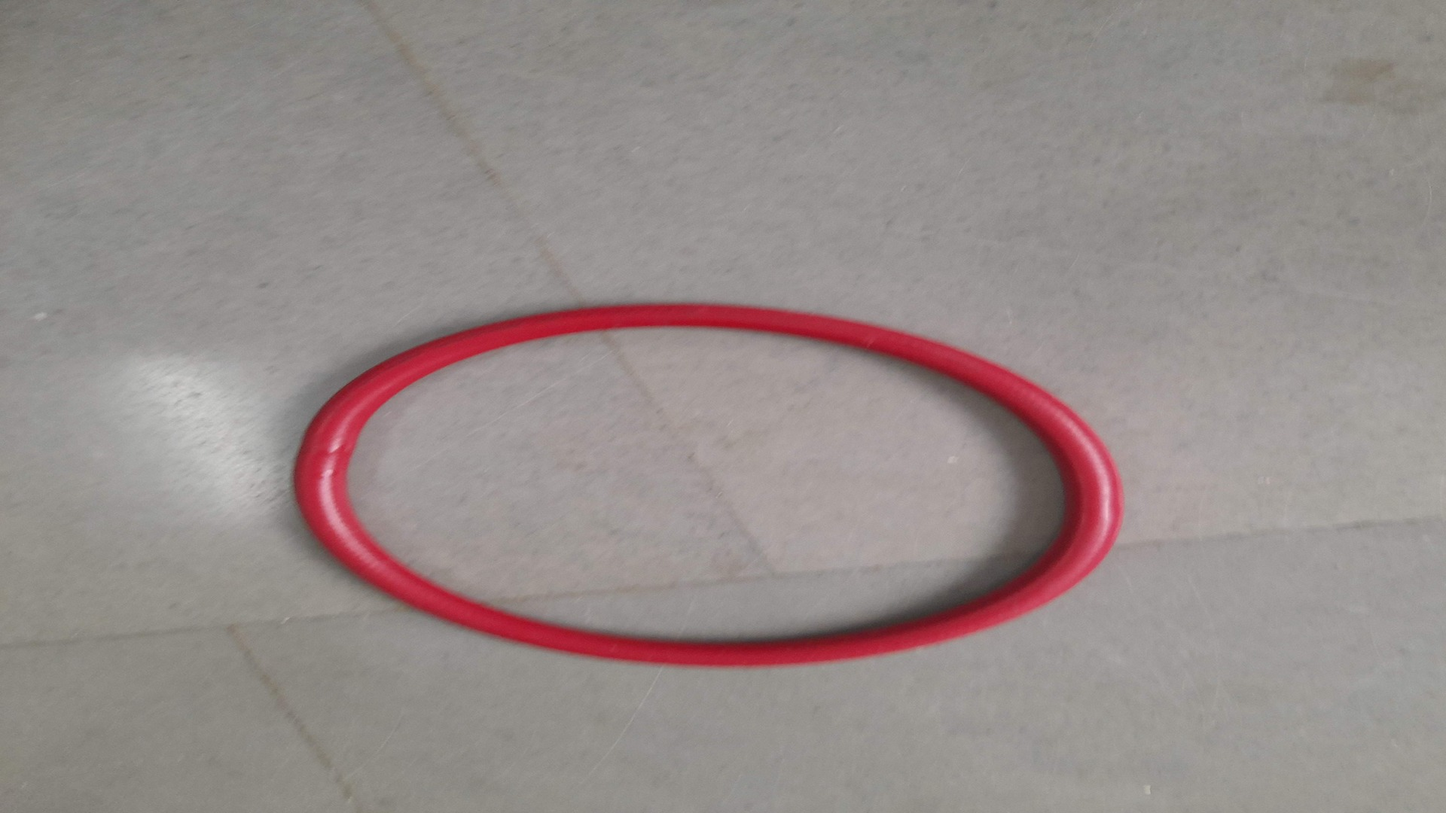Red ring: (294, 300, 1122, 667)
